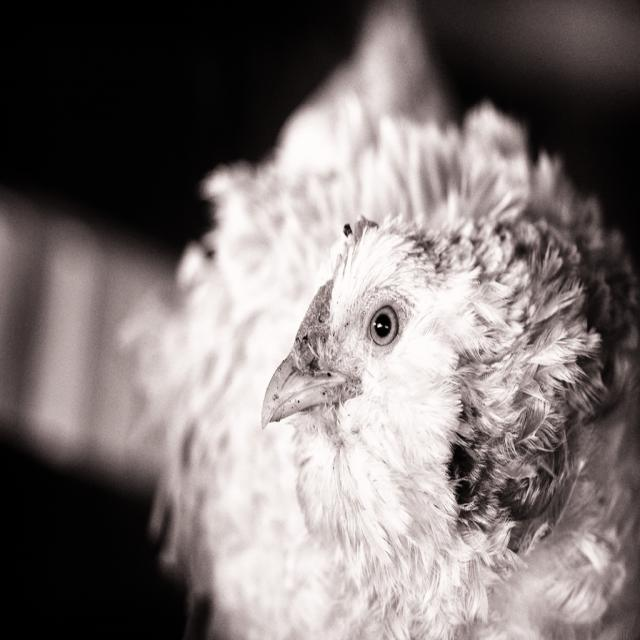Chicken: (130, 0, 639, 639)
